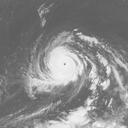cyclone: (35, 45, 84, 85)
